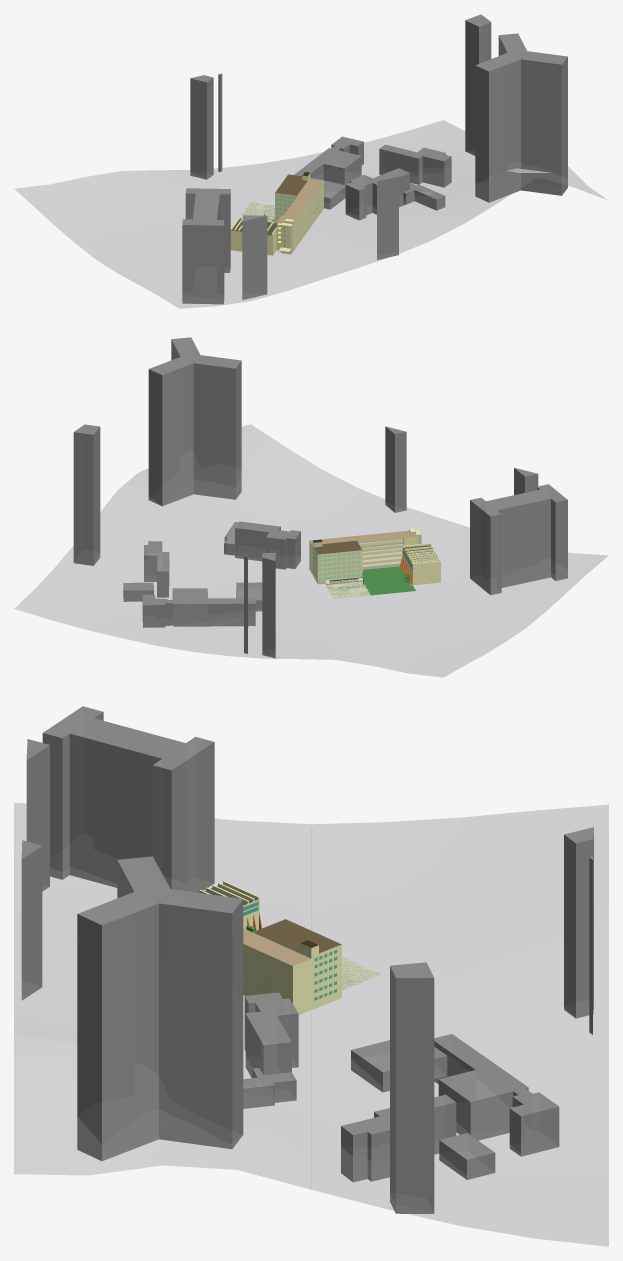
File: Output_STMC_cad.dae
3 renders of one model, top to bottom at view 1: azimuth 30°, elevation 25°; view 2: azimuth 150°, elevation 25°; view 3: azimuth 270°, elevation 25°, orthographic. The views are drawn at different scales.
Visible parts, largest first — view 1: group_85, group_14, group_4, STMC_import (×5), group_49, group_15, group_22, group_70, group_16, group_51, group_65, group_9 (+2 smaller); view 2: group_85, group_14, group_4, STMC_import (×6), group_15, group_16, group_65, group_51, group_49, group_22, group_70, group_80 (+1 smaller); view 3: group_85, group_14, group_4, group_15, group_16, STMC_import (×4), group_49, group_65, group_22, group_51, group_70, group_80 (+3 smaller).
Part boxes in pixels (bbox=[...]): group_85: bbox=[15, 120, 606, 308]; group_14: bbox=[475, 33, 567, 202]; group_4: bbox=[182, 188, 230, 304]; STMC_import (×5): bbox=[230, 173, 323, 255]; group_49: bbox=[190, 75, 213, 179]; group_15: bbox=[465, 14, 491, 155]; group_22: bbox=[379, 144, 451, 187]; group_70: bbox=[242, 215, 267, 299]; group_16: bbox=[294, 136, 363, 184]; group_51: bbox=[377, 176, 398, 259]; group_65: bbox=[345, 168, 409, 220]; group_9: bbox=[403, 182, 445, 210]; group_85: bbox=[14, 424, 608, 677]; group_14: bbox=[148, 337, 241, 506]; group_4: bbox=[470, 484, 567, 595]; STMC_import (×6): bbox=[309, 530, 440, 598]; group_15: bbox=[73, 424, 100, 565]; group_16: bbox=[142, 588, 255, 627]; group_65: bbox=[235, 521, 300, 569]; group_51: bbox=[385, 426, 406, 512]; group_49: bbox=[262, 553, 275, 658]; group_22: bbox=[144, 541, 169, 597]; group_70: bbox=[514, 467, 538, 494]; group_80: bbox=[123, 582, 153, 601]; group_85: bbox=[14, 803, 608, 1246]; group_14: bbox=[77, 856, 243, 1160]; group_4: bbox=[42, 706, 214, 892]; group_15: bbox=[390, 962, 434, 1213]; group_16: bbox=[434, 1034, 559, 1156]; STMC_import (×4): bbox=[200, 881, 341, 1014]; group_49: bbox=[564, 827, 593, 1018]; group_65: bbox=[244, 992, 298, 1077]; group_22: bbox=[341, 1094, 456, 1182]; group_51: bbox=[21, 840, 42, 1000]; group_70: bbox=[26, 739, 49, 891]; group_80: bbox=[439, 1133, 495, 1179].
Size of the model in its own units: 14173 by 9449 by 5481.
